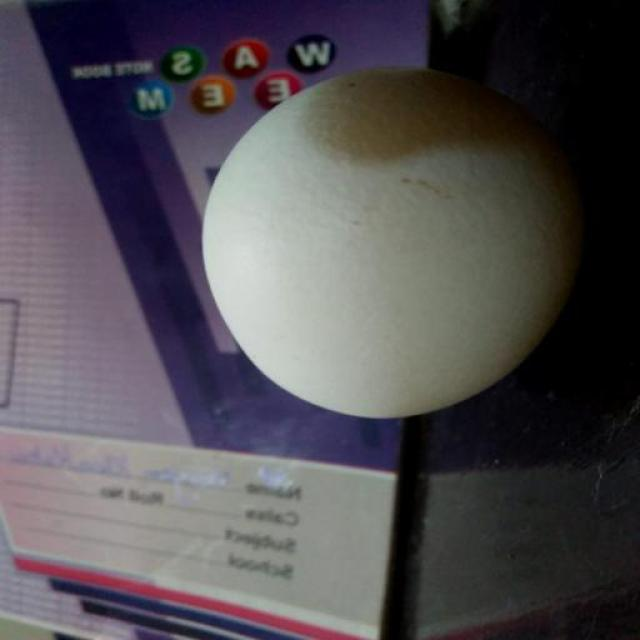telur: (202, 70, 581, 420)
